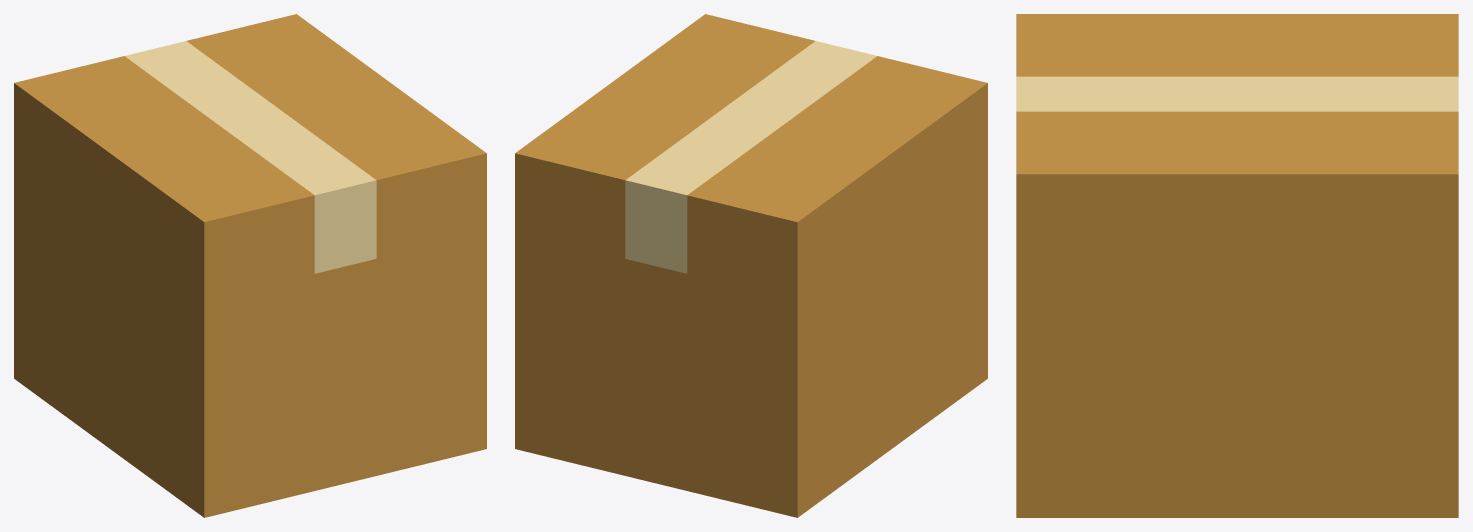
3 views of the same model, side by side, from view 1: azimuth 30°, elevation 25°; view 2: azimuth 150°, elevation 25°; view 3: azimuth 270°, elevation 25° (orthographic). The views are drawn at different scales.
Parts seen in each view (by area): view 1: Box; view 2: Box; view 3: Box.
Part boxes in pixels (box(x1,y1,x2,y2)): Box: box(14, 14, 486, 517); Box: box(515, 14, 987, 517); Box: box(1016, 14, 1458, 517).
Bounding box in the file's own units: 30 × 30 × 35.
